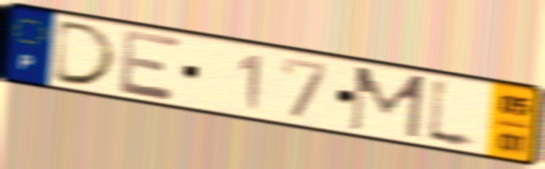1: (236, 54, 263, 112)
7: (278, 55, 329, 122)
D: (49, 18, 120, 89)
E: (117, 27, 185, 104)
L: (423, 73, 482, 156)
M: (346, 64, 429, 142)
